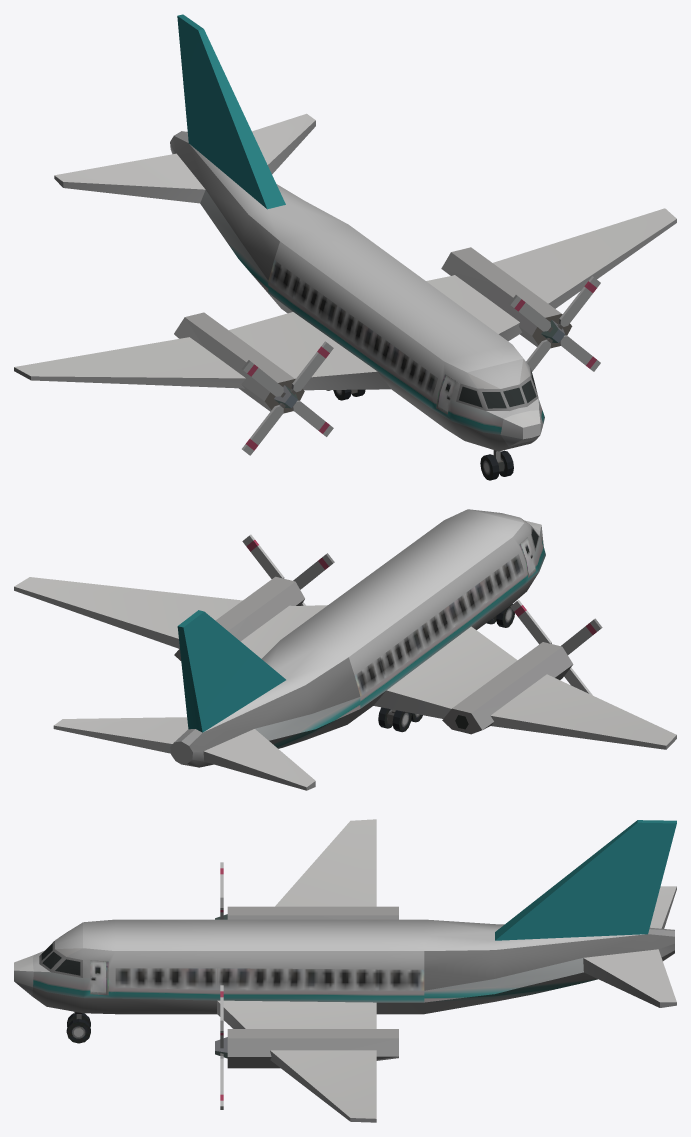
The model's file is Plane_Propellor01.fbx.
3 views of the same model, one above another, from view 1: azimuth 30°, elevation 25°; view 2: azimuth 150°, elevation 25°; view 3: azimuth 270°, elevation 25° (orthographic). The views are drawn at different scales.
Parts seen in each view (by area): view 1: Plane_Propellor01; view 2: Plane_Propellor01; view 3: Plane_Propellor01.
Boxes of the visible parts, x1,y1,x2,y2 form: Plane_Propellor01: [14, 14, 676, 480]; Plane_Propellor01: [14, 509, 676, 790]; Plane_Propellor01: [14, 819, 676, 1122].
Bounding box in the file's own units: 56.49 × 19.12 × 52.84.
